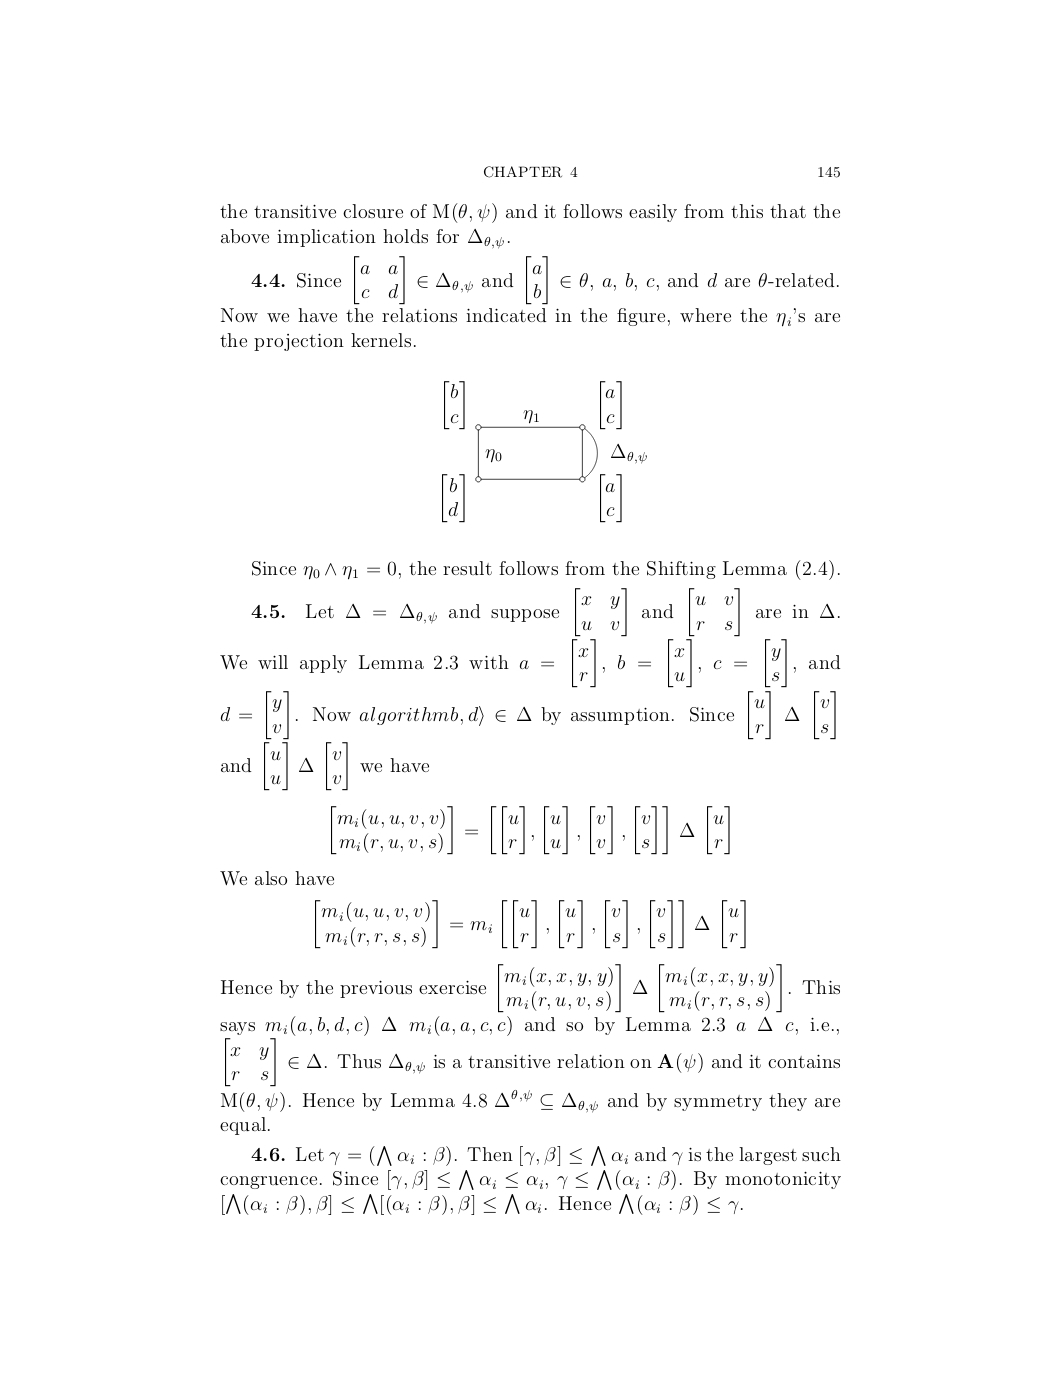figure: (442, 380, 646, 523)
formula: (315, 899, 744, 950), (331, 805, 729, 855)
